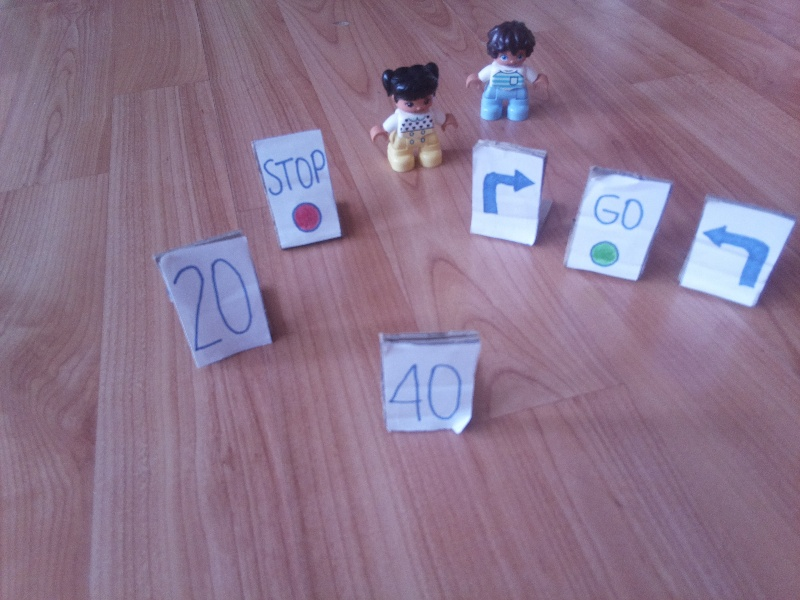20: (170, 258, 262, 346)
40: (385, 360, 465, 423)
go: (588, 193, 643, 271)
person: (363, 63, 458, 170), (465, 21, 553, 122)
stop: (263, 143, 328, 233)
turn left: (699, 220, 770, 292)
turn right: (479, 165, 536, 220)
